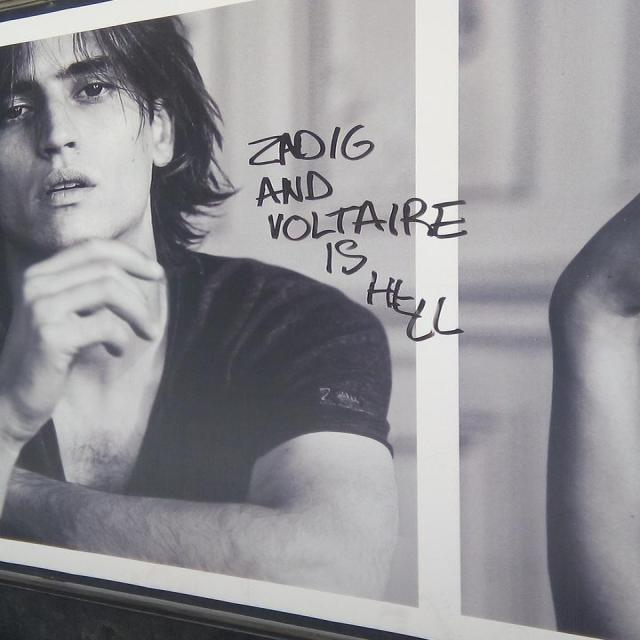nonspitting: (252, 122, 468, 348)
